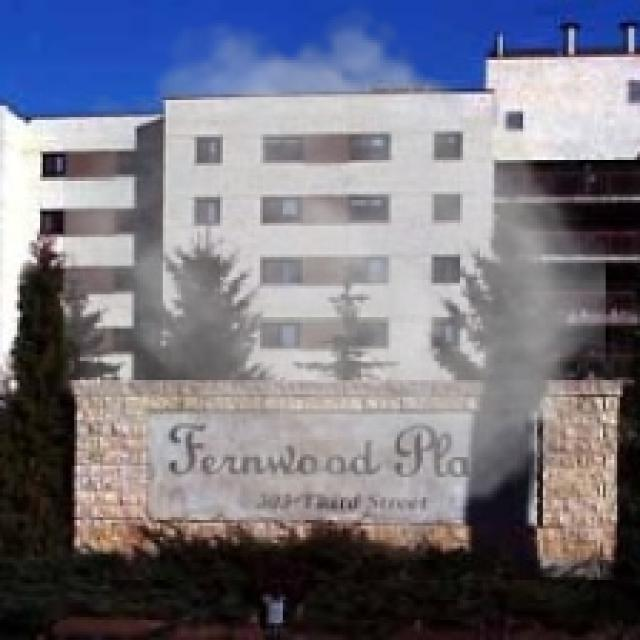Smoke: (63, 3, 606, 566)
